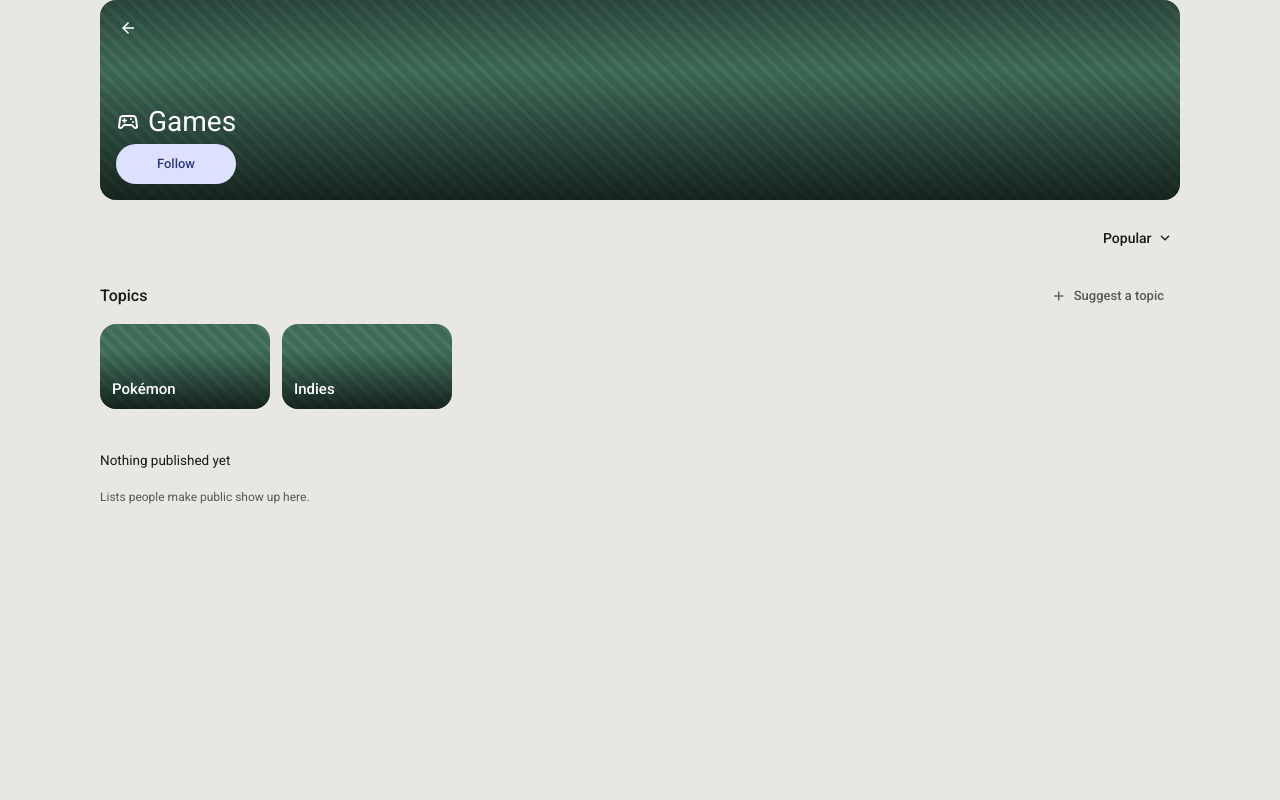
SectionPage › asks a guest to sign in before following
Expected: the link "Pokémon" is shown, [100,324,270,409]
Click the button "Follow" at (176, 164), box [116,144,236,184]
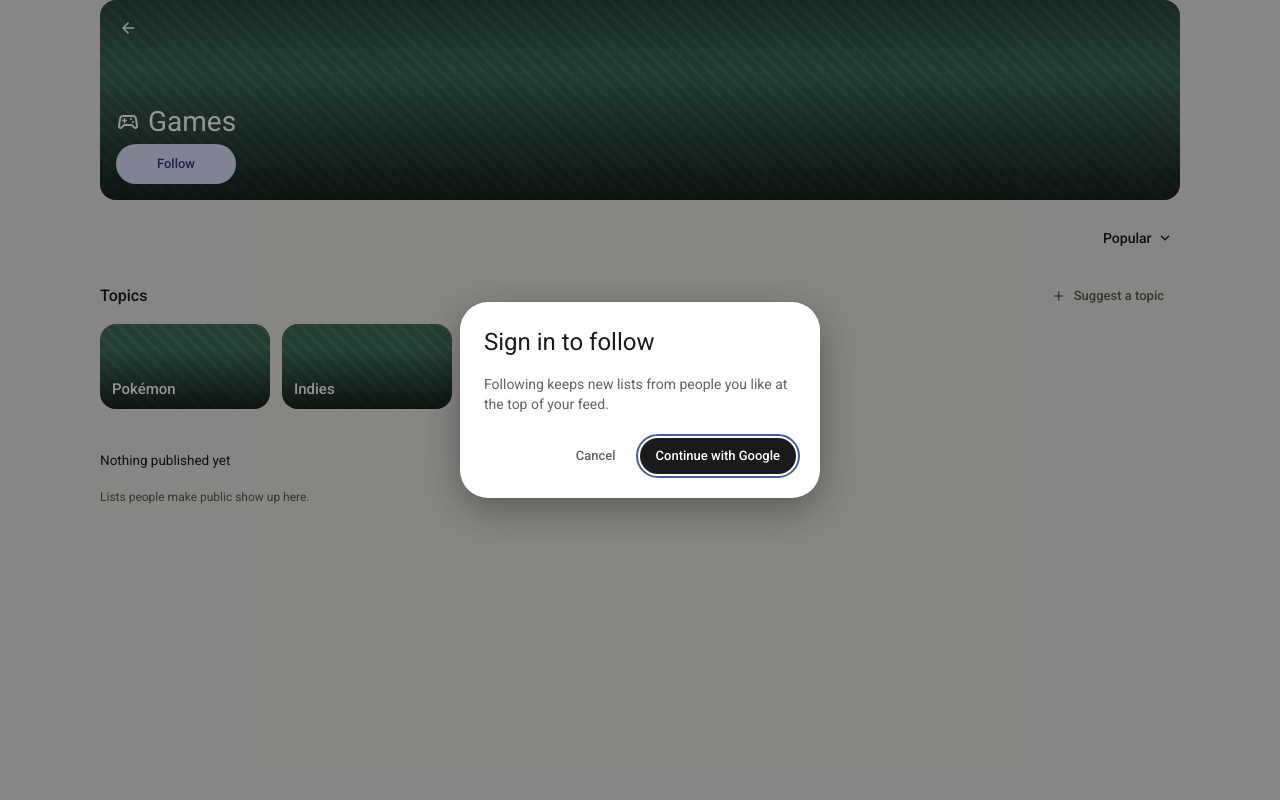
Now the heading "Sign in to follow" is shown, box [484,328,654,356]
